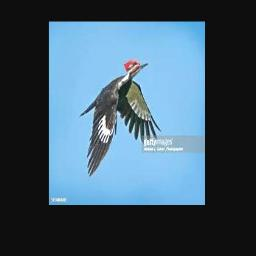Woodpecker: (79, 60, 162, 177)
